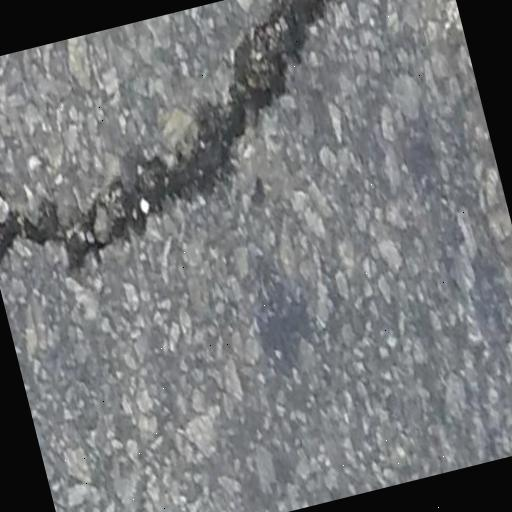spalling: (0, 0, 331, 283)
